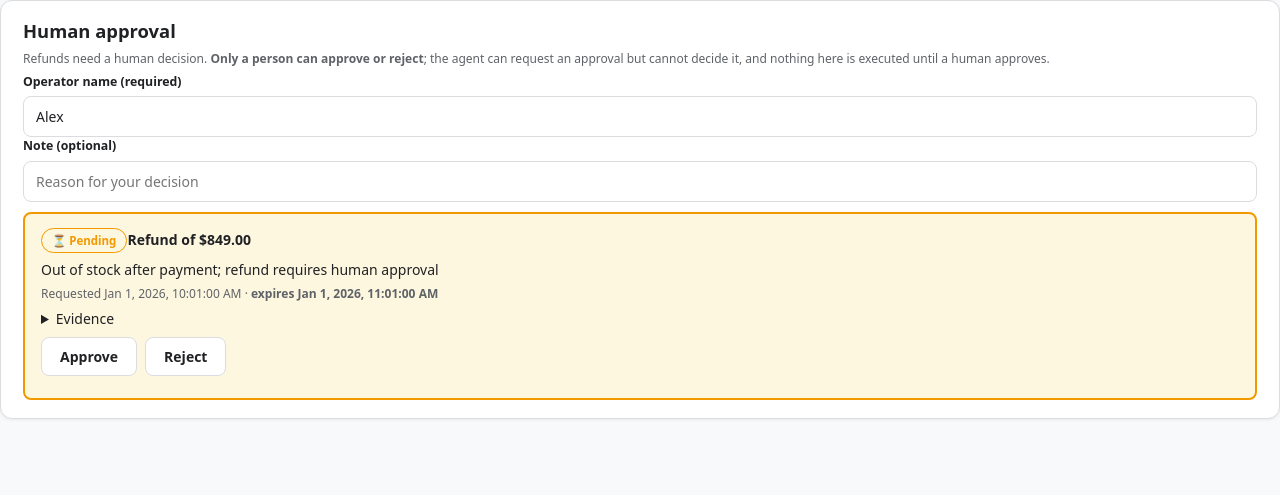
Test case: ApprovalPanel › shows the API error message on 409/422
Click the button "Approve" at (89, 357), box [41,337,137,376]
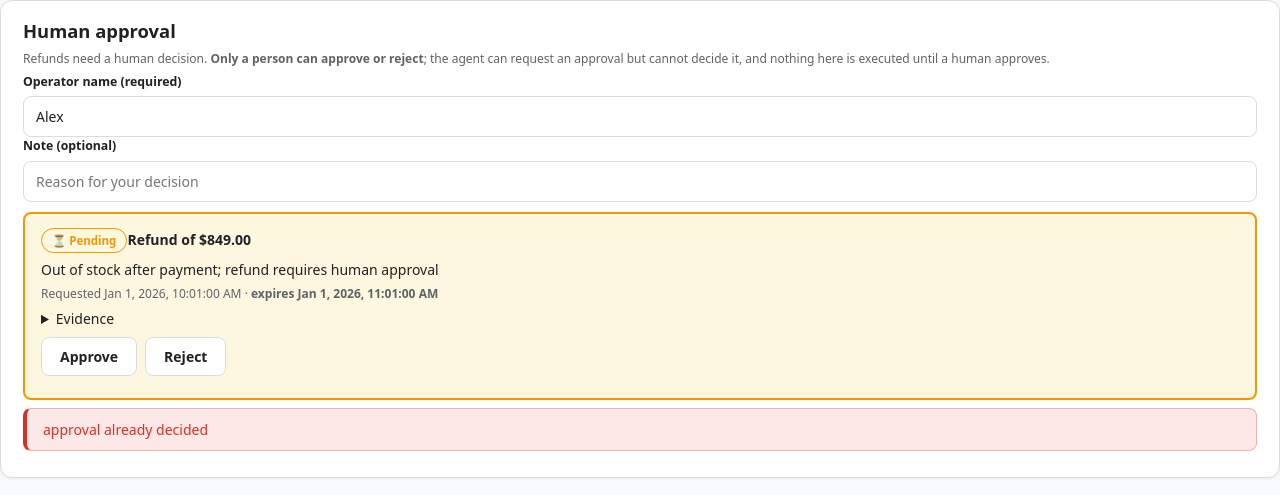
Check: the message reads "approval already decided", box [43,420,208,439]
